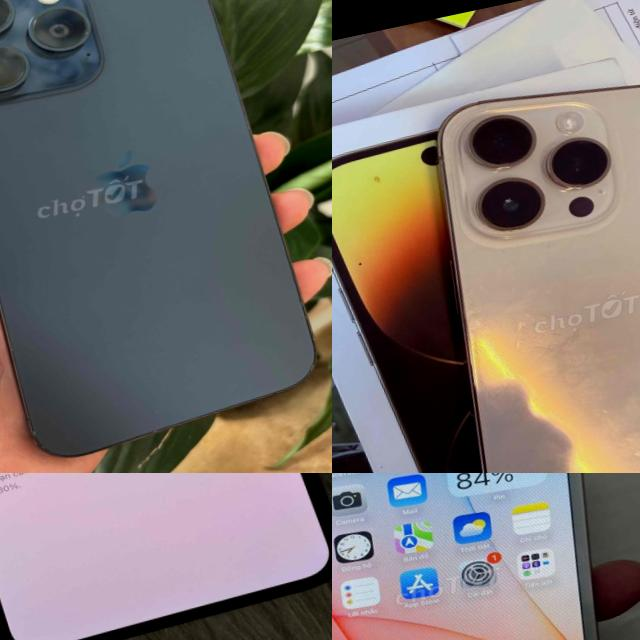gen_11: (0, 473, 332, 640)
gen_14: (391, 41, 640, 473)
gen_15: (0, 0, 332, 473)
gen_7_8: (332, 473, 640, 640)
